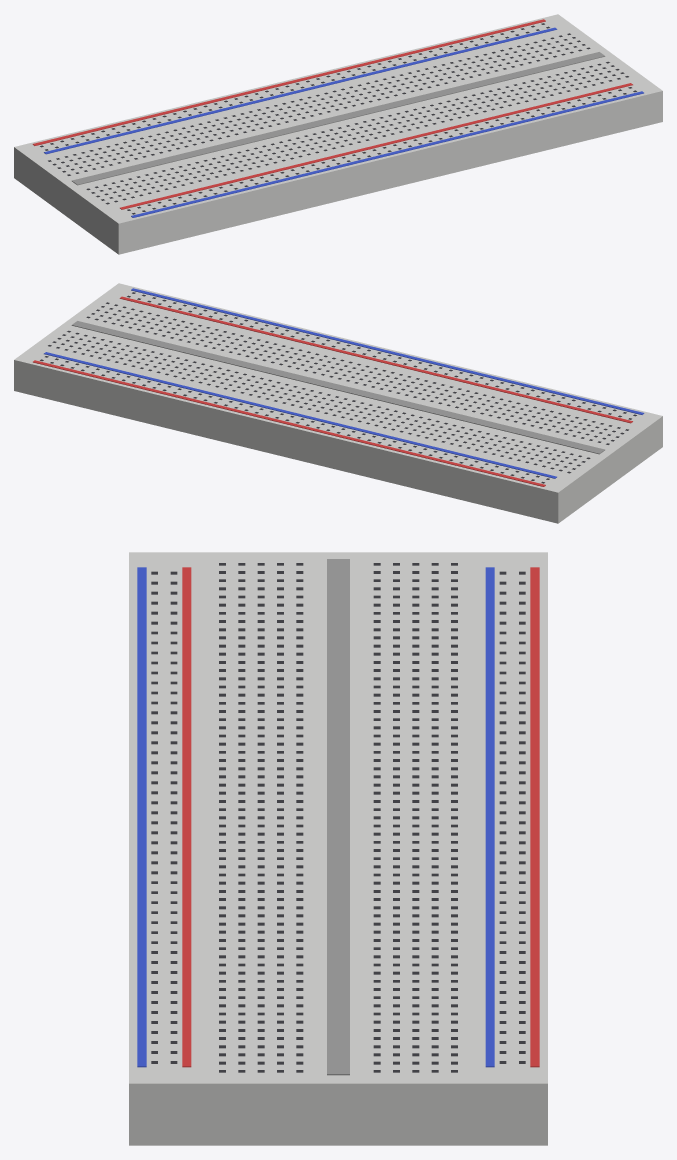
Rendered from breadboard.glb.
The picture shows the model from 3 angles, top to bottom: view 1: azimuth 30°, elevation 25°; view 2: azimuth 150°, elevation 25°; view 3: azimuth 270°, elevation 25°; orthographic projection. The views are drawn at different scales.
Visible parts, largest first — view 1: Breadboard_Body, Holes, Channel, RailLine_TopPos, RailLine_BotNeg, RailLine_BotPos, RailLine_TopNeg; view 2: Breadboard_Body, Holes, Channel, RailLine_BotNeg, RailLine_BotPos, RailLine_TopNeg, RailLine_TopPos; view 3: Breadboard_Body, Holes, Channel, RailLine_BotNeg, RailLine_TopPos, RailLine_BotPos, RailLine_TopNeg.
Boxes of the visible parts, x1=… form: Breadboard_Body: x1=14, y1=14, x2=662, y2=254; Holes: x1=40, y1=23, x2=636, y2=214; Channel: x1=72, y1=52, x2=605, y2=185; RailLine_TopPos: x1=32, y1=19, x2=545, y2=145; RailLine_BotNeg: x1=131, y1=91, x2=643, y2=217; RailLine_BotPos: x1=120, y1=83, x2=632, y2=209; RailLine_TopNeg: x1=44, y1=27, x2=557, y2=154; Breadboard_Body: x1=14, y1=283, x2=662, y2=523; Holes: x1=40, y1=292, x2=636, y2=483; Channel: x1=71, y1=321, x2=604, y2=454; RailLine_BotNeg: x1=131, y1=288, x2=644, y2=414; RailLine_BotPos: x1=119, y1=296, x2=632, y2=423; RailLine_TopNeg: x1=44, y1=352, x2=556, y2=478; RailLine_TopPos: x1=33, y1=360, x2=545, y2=486; Breadboard_Body: x1=129, y1=552, x2=547, y2=1145; Holes: x1=151, y1=563, x2=525, y2=1072; Channel: x1=327, y1=559, x2=349, y2=1075; RailLine_BotNeg: x1=137, y1=567, x2=146, y2=1067; RailLine_TopPos: x1=530, y1=567, x2=539, y2=1067; RailLine_BotPos: x1=182, y1=567, x2=191, y2=1067; RailLine_TopNeg: x1=485, y1=567, x2=494, y2=1067.
Size of the model in its own units: 0.165 by 0.0092 by 0.055.
